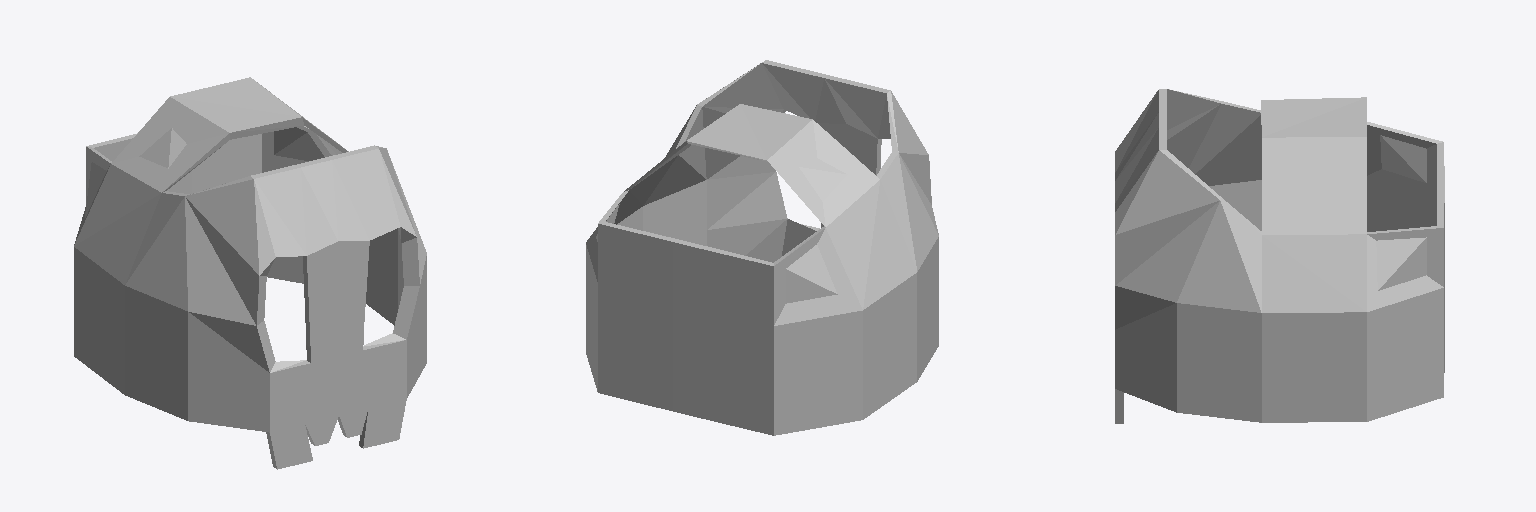
File: Helmet.obj
3 renders of one model, left to right at view 1: azimuth 30°, elevation 25°; view 2: azimuth 150°, elevation 25°; view 3: azimuth 270°, elevation 25°, orthographic.
Visible parts, largest first — view 1: pCube2_vtx_28_; view 2: pCube2_vtx_28_; view 3: pCube2_vtx_28_.
Boxes of the visible parts, x1,y1,x2,y2 form: pCube2_vtx_28_: [74, 77, 426, 469]; pCube2_vtx_28_: [586, 60, 938, 435]; pCube2_vtx_28_: [1115, 89, 1444, 423].
Bounding box in the file's own units: 2.24 × 2.12 × 2.28.